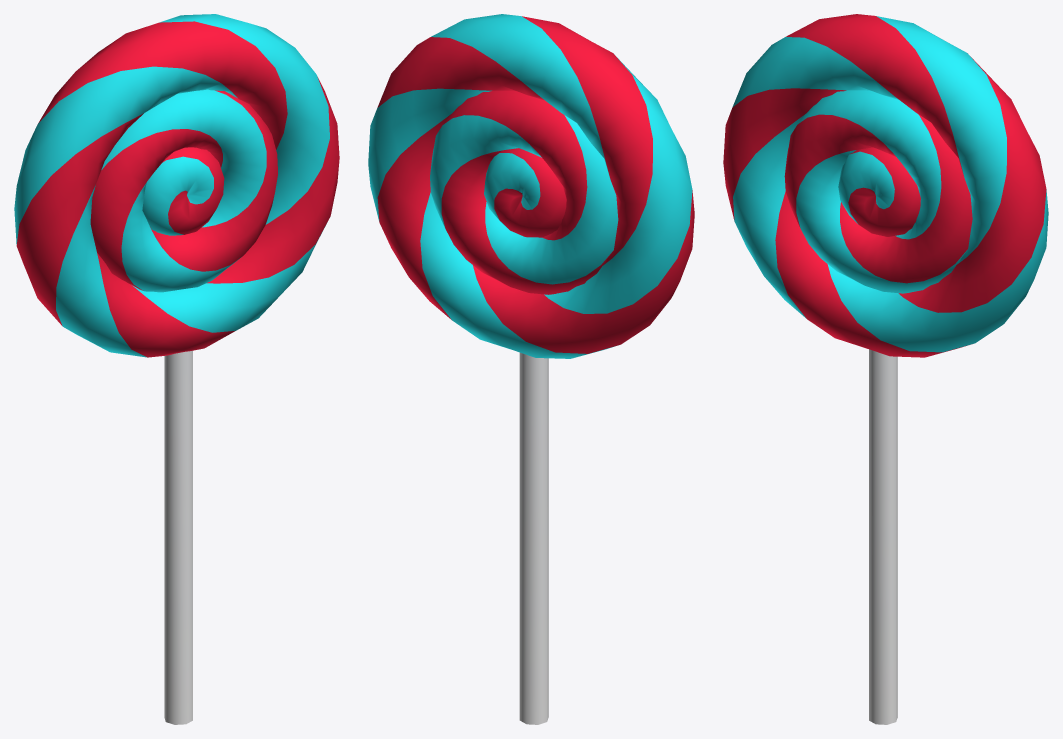
The model's file is lollipop_034.glb.
The picture shows the model from 3 angles, left to right: view 1: azimuth 30°, elevation 25°; view 2: azimuth 150°, elevation 25°; view 3: azimuth 330°, elevation 25°; orthographic projection.
Parts seen in each view (by area): view 1: lollipop_034; view 2: lollipop_034; view 3: lollipop_034.
Boxes of the visible parts, left/top/right/bottom form: lollipop_034: left=14, top=14, right=339, bottom=724; lollipop_034: left=368, top=14, right=694, bottom=724; lollipop_034: left=723, top=14, right=1048, bottom=724.
Bounding box in the file's own units: 4.28 × 9.03 × 0.9787.
1 material, 1 textured.
